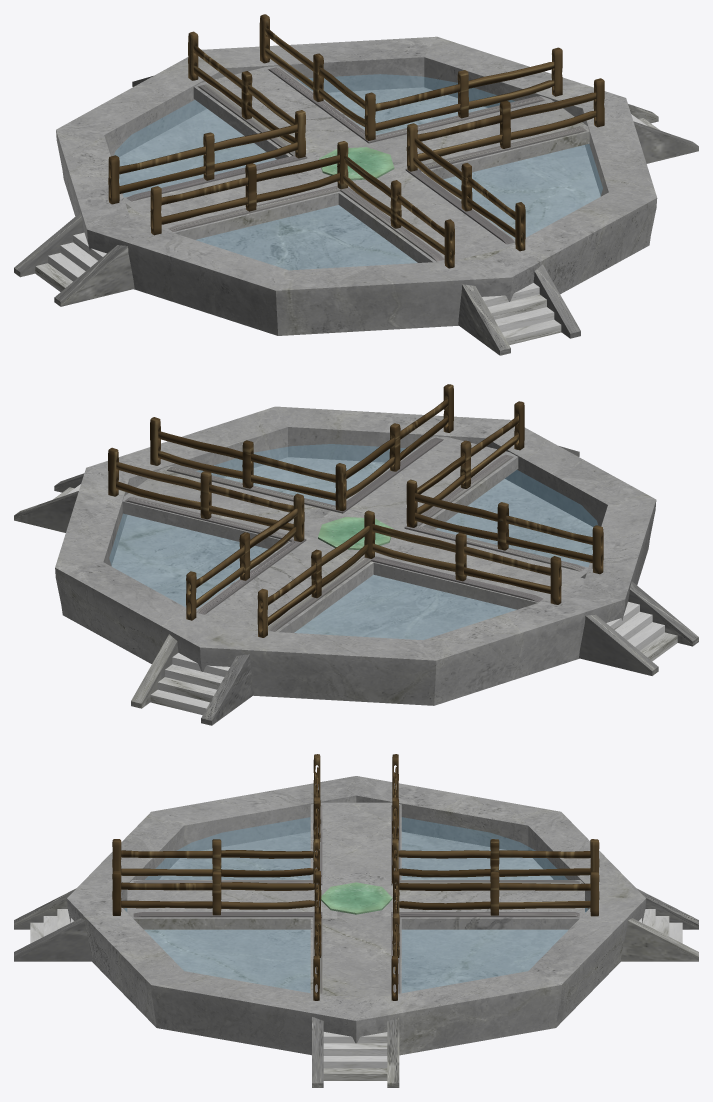
File: pond.glb
The picture shows the model from 3 angles, top to bottom: view 1: azimuth 30°, elevation 25°; view 2: azimuth 150°, elevation 25°; view 3: azimuth 270°, elevation 25°; orthographic projection. The views are drawn at different scales.
Parts seen in each view (by area): view 1: pond_final.002, pond_final, pond_final.001, pond_final.003; view 2: pond_final.002, pond_final, pond_final.001, pond_final.003; view 3: pond_final.002, pond_final.001, pond_final, pond_final.003.
Boxes of the visible parts, x1,y1,x2,y2 form: pond_final.002: (56, 36, 657, 335); pond_final: (108, 14, 604, 268); pond_final.001: (114, 74, 602, 269); pond_final.003: (14, 76, 698, 355); pond_final.002: (55, 406, 656, 705); pond_final: (108, 384, 603, 637); pond_final.001: (109, 444, 597, 639); pond_final.003: (14, 446, 698, 725); pond_final.002: (67, 776, 646, 1055); pond_final.001: (125, 817, 587, 992); pond_final: (112, 754, 599, 1000); pond_final.003: (14, 888, 698, 1087).
Size of the model in its own units: 12.57 by 1.77 by 12.54.
Materials: 4 (3 with a texture image).
